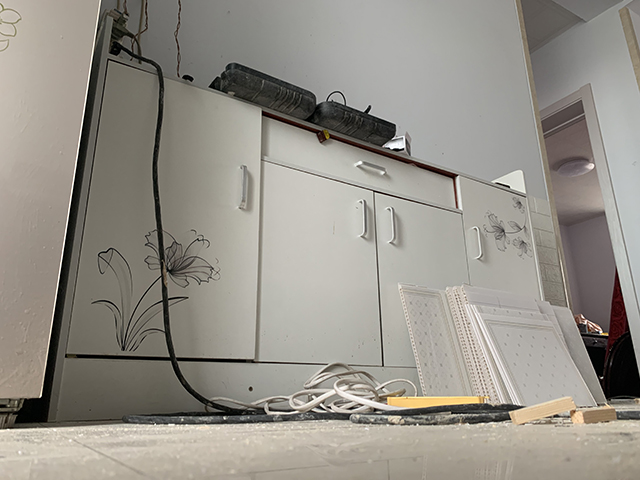cabinet: (37, 8, 546, 424)
wire: (111, 40, 527, 426)
